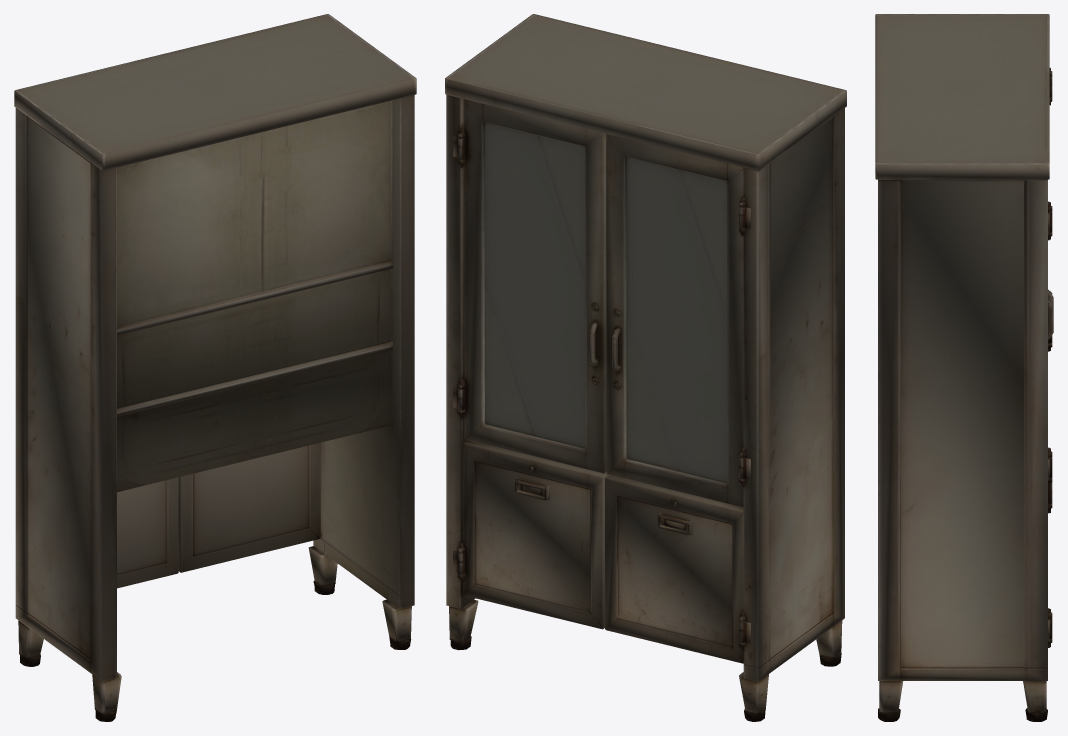
File: furniture-medicine-cabinet.glb
3 renders of one model, left to right at view 1: azimuth 30°, elevation 25°; view 2: azimuth 150°, elevation 25°; view 3: azimuth 270°, elevation 25°, orthographic. The views are drawn at different scales.
Parts seen in each view (by area): view 1: tripo_node_29d96d78-7311-43e5-83c7-223cc08a4aea; view 2: tripo_node_29d96d78-7311-43e5-83c7-223cc08a4aea; view 3: tripo_node_29d96d78-7311-43e5-83c7-223cc08a4aea.
Part boxes in pixels (<box>): tripo_node_29d96d78-7311-43e5-83c7-223cc08a4aea: <box>14,14,416,721</box>; tripo_node_29d96d78-7311-43e5-83c7-223cc08a4aea: <box>445,14,846,721</box>; tripo_node_29d96d78-7311-43e5-83c7-223cc08a4aea: <box>875,14,1053,721</box>.
Bounding box in the file's own units: 1.3 × 2.25 × 0.65.
1 material, 1 textured.
